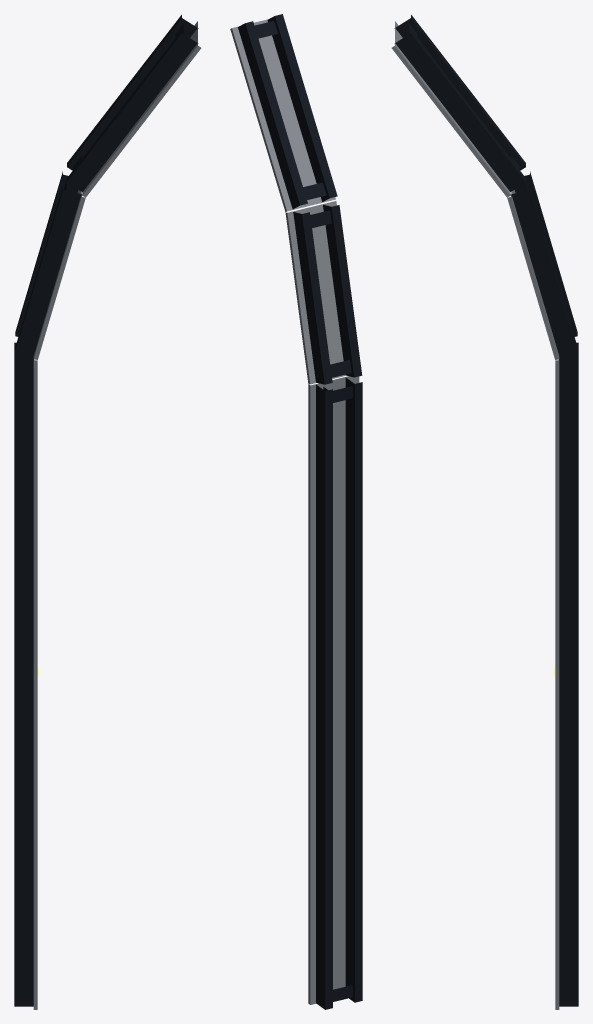
File: tt_climbing_panel_trim.glb
The picture shows the model from 3 angles, left to right: view 1: azimuth 90°, elevation 25°; view 2: azimuth 210°, elevation 25°; view 3: azimuth 270°, elevation 25°; orthographic projection. The views are drawn at different scales.
Visible parts, largest first — view 1: Sub_Frame, Face_Sheet; view 2: Sub_Frame, Face_Sheet; view 3: Sub_Frame, Face_Sheet.
Boxes of the visible parts, bbox=[...] form: Sub_Frame: bbox=[14, 14, 198, 1006]; Face_Sheet: bbox=[33, 21, 201, 1009]; Sub_Frame: bbox=[238, 14, 362, 1009]; Face_Sheet: bbox=[230, 19, 359, 1004]; Sub_Frame: bbox=[394, 14, 578, 1006]; Face_Sheet: bbox=[391, 21, 559, 1009].
Size of what is drawn, in the model's own units: 0.248 by 4.5 by 0.7834.
3 materials, 1 textured.
